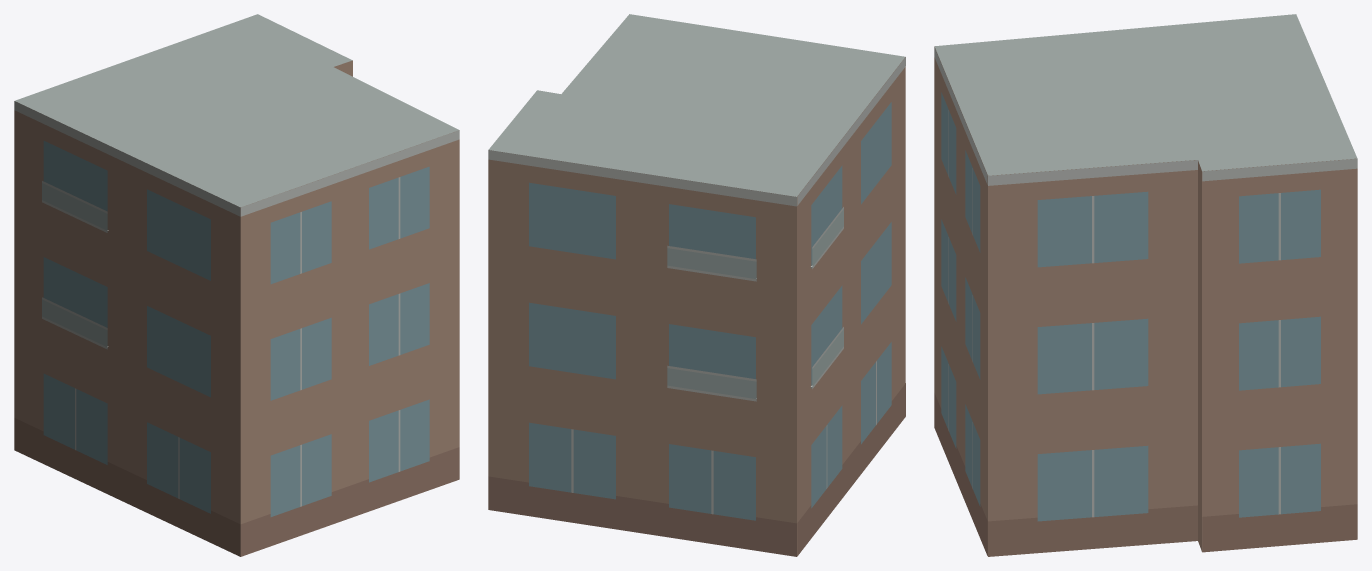
File: survey-upis-32955385.glb
3 renders of one model, left to right at view 1: azimuth 30°, elevation 25°; view 2: azimuth 150°, elevation 25°; view 3: azimuth 270°, elevation 25°, orthographic. The views are drawn at different scales.
Visible parts, largest first — view 1: survey-upis-32955385.tmp; view 2: survey-upis-32955385.tmp; view 3: survey-upis-32955385.tmp.
Part boxes in pixels (x1,y1,x2,y2): survey-upis-32955385.tmp: (14, 14, 459, 556); survey-upis-32955385.tmp: (488, 14, 905, 556); survey-upis-32955385.tmp: (934, 14, 1357, 556).
Size of the model in its own units: 8.34 by 9.15 by 9.22.
